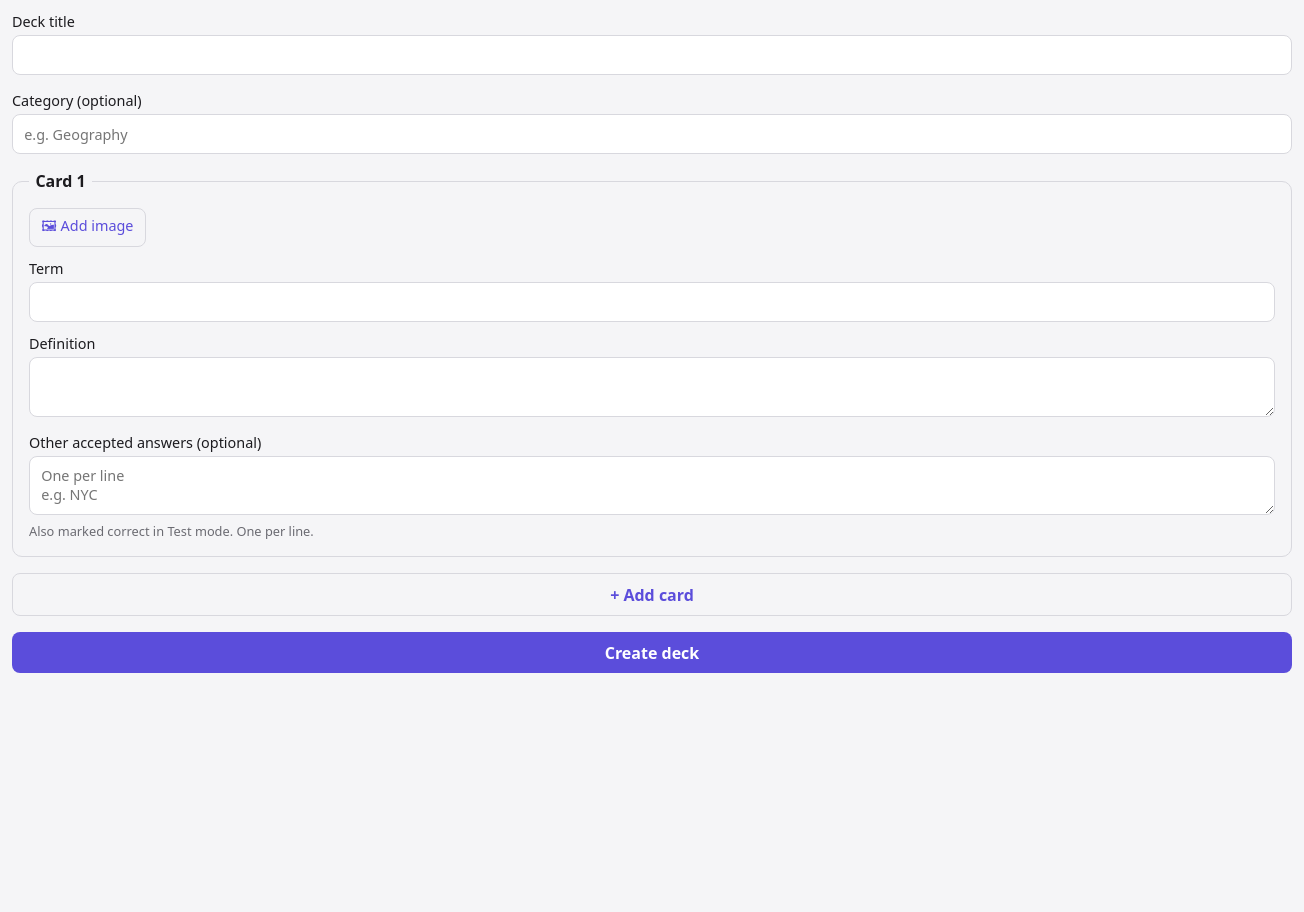
Test: DeckForm › blocks an invalid submit and shows validation errors
Click the button "Create deck": (652, 653) left=12, top=632, right=1292, bottom=673
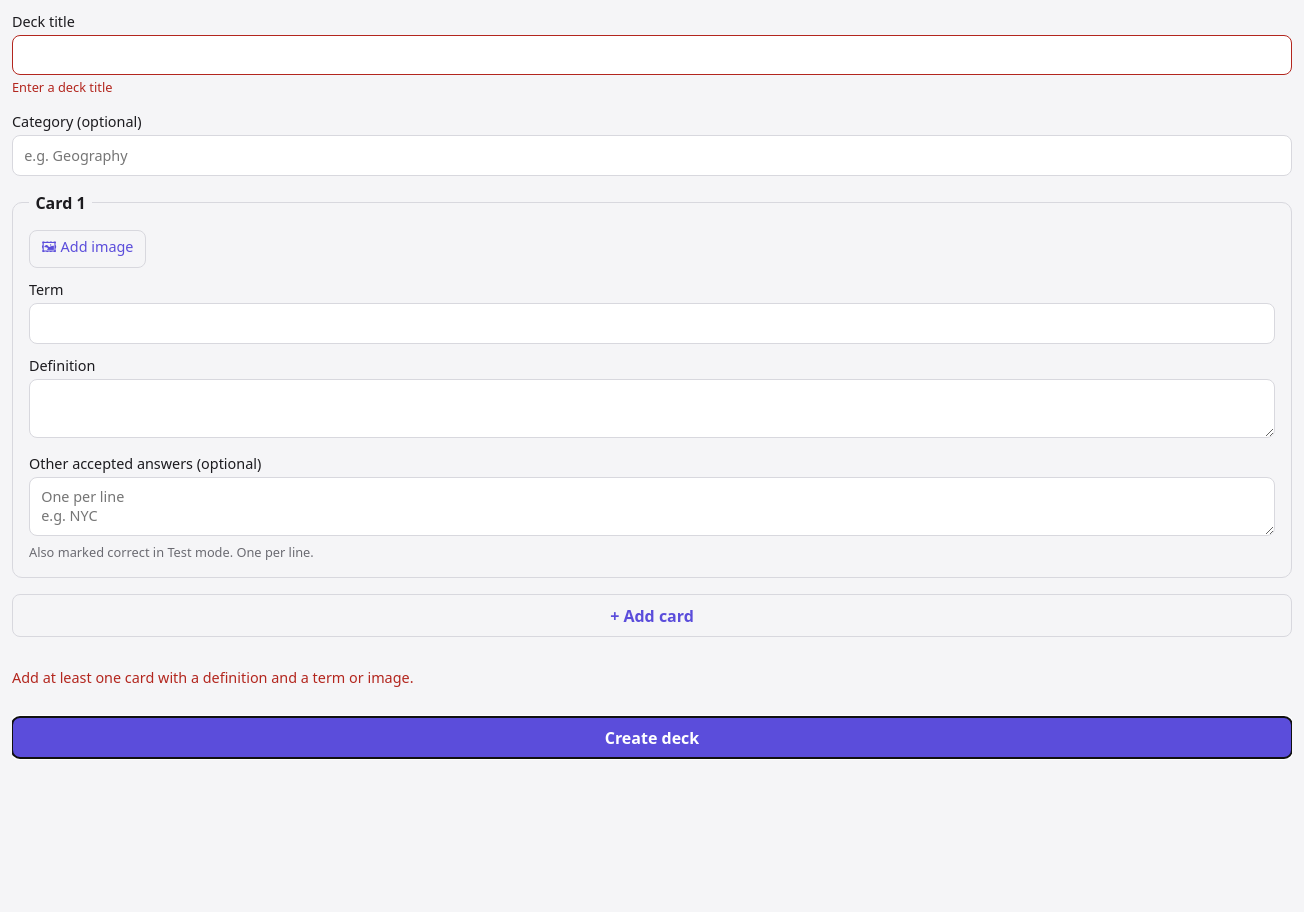
expect the text "Enter a deck title" is shown: met, box left=12, top=78, right=112, bottom=96
